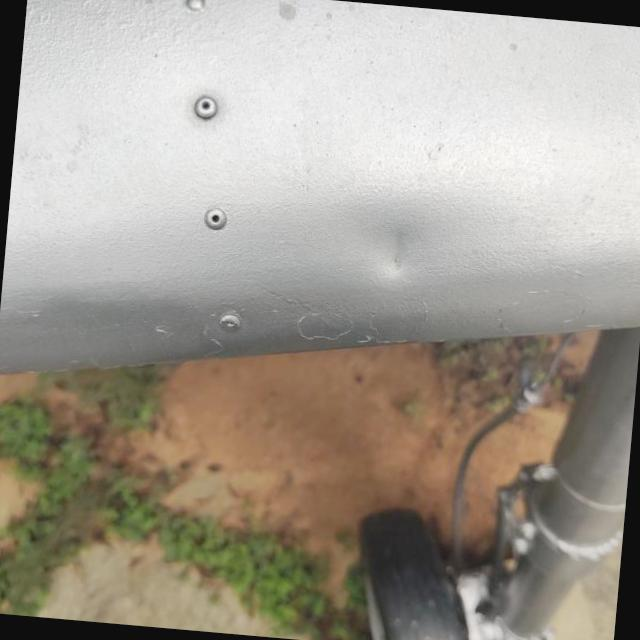dent: (364, 209, 432, 288)
